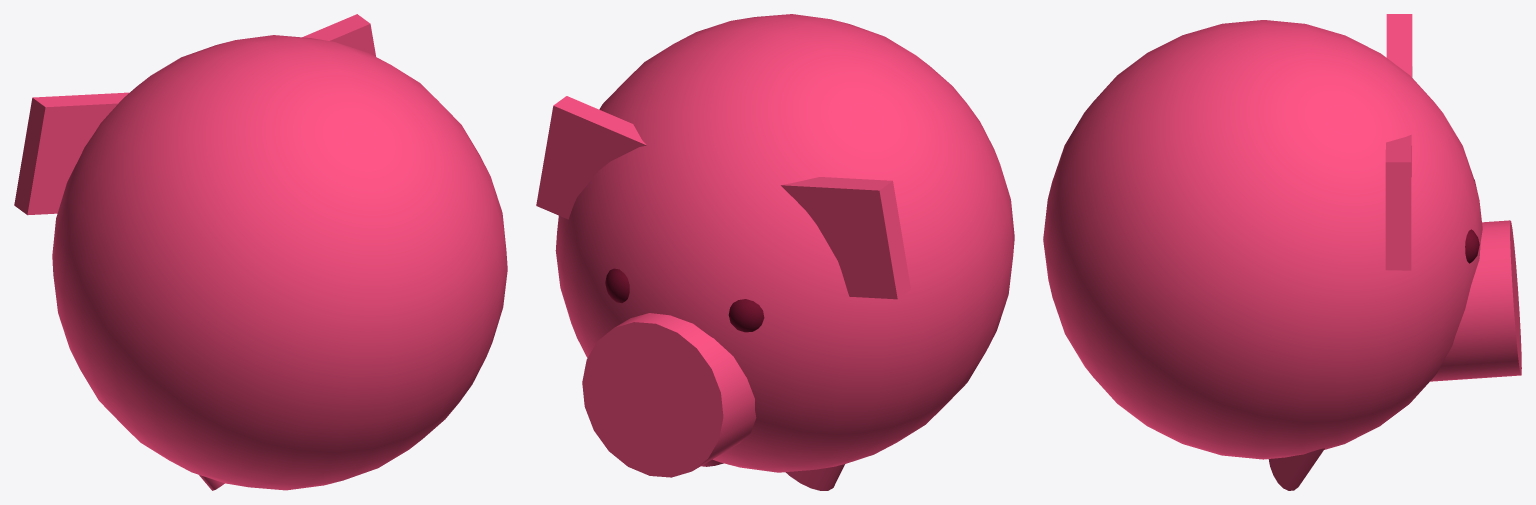
File: pig_full.FBX
3 views of the same model, side by side, from view 1: azimuth 30°, elevation 25°; view 2: azimuth 150°, elevation 25°; view 3: azimuth 270°, elevation 25° (orthographic). The views are drawn at different scales.
Parts seen in each view (by area): view 1: pig_full; view 2: pig_full; view 3: pig_full.
Boxes of the visible parts, <box> form: pig_full: <box>14,14,507,490</box>; pig_full: <box>536,14,1014,490</box>; pig_full: <box>1043,14,1521,490</box>.
Size of the model in its own units: 0.00595 by 0.00621 by 0.00646.
